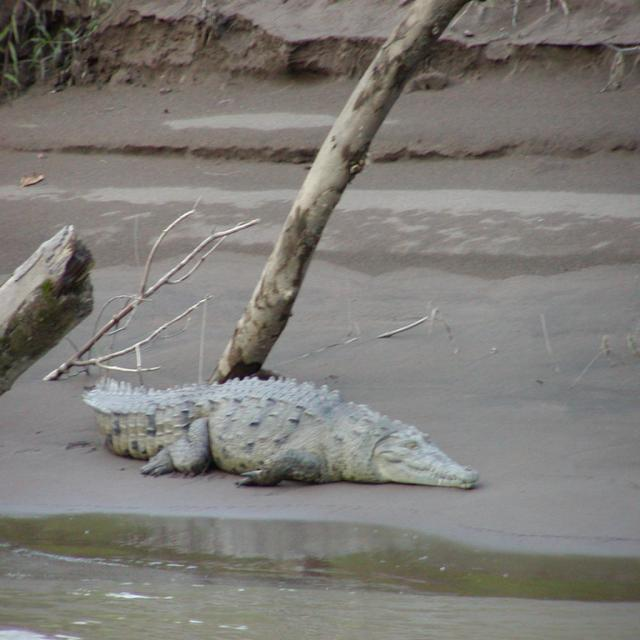crocodile: (86, 371, 480, 491)
